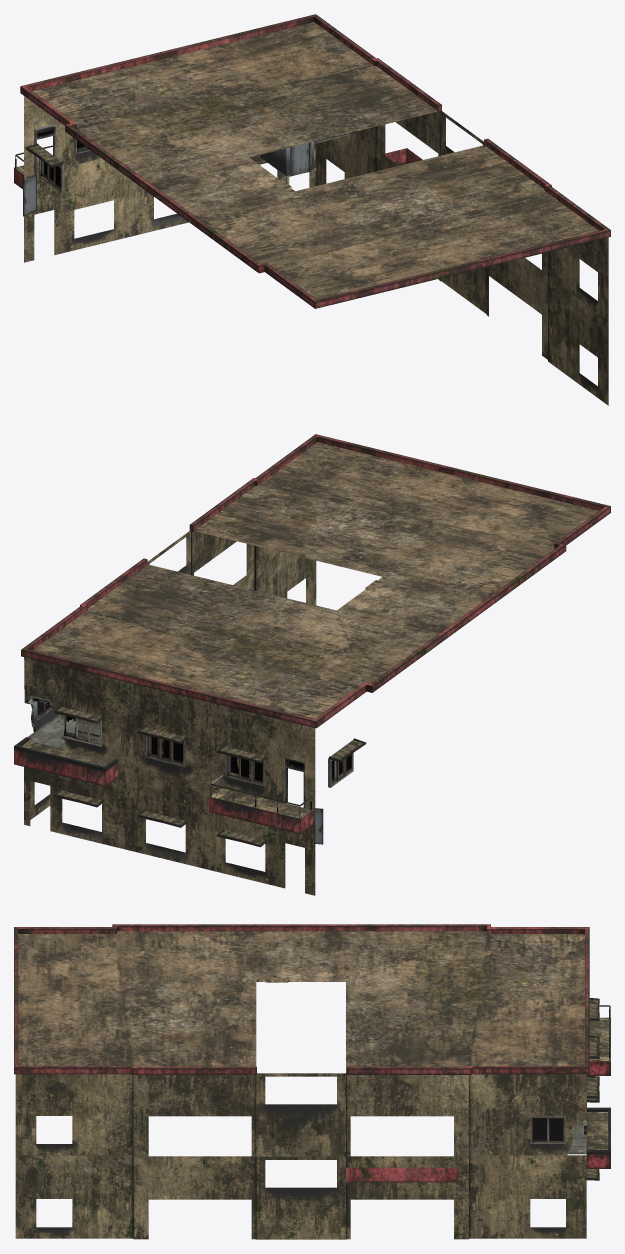
Rendered from Apartment1_Cine2.FBX.
3 views of the same model, one above another, from view 1: azimuth 30°, elevation 25°; view 2: azimuth 150°, elevation 25°; view 3: azimuth 270°, elevation 25° (orthographic). The views are drawn at different scales.
Parts seen in each view (by area): view 1: Apartment1_Cine2; view 2: Apartment1_Cine2; view 3: Apartment1_Cine2.
Part boxes in pixels (x1,y1,x2,y2): Apartment1_Cine2: (14,14,610,405); Apartment1_Cine2: (14,434,610,895); Apartment1_Cine2: (14,924,610,1239).
Size of the model in its own units: 2064 by 1054 by 3324.
1 material, 1 textured.
